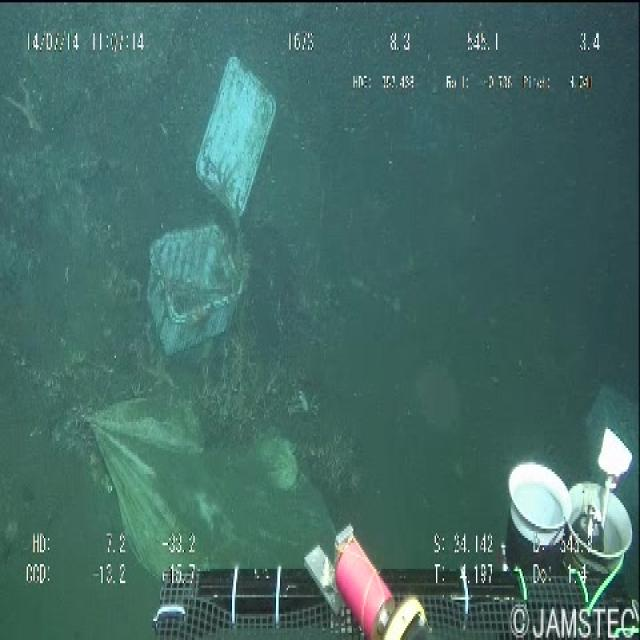plastic: (134, 40, 278, 370)
